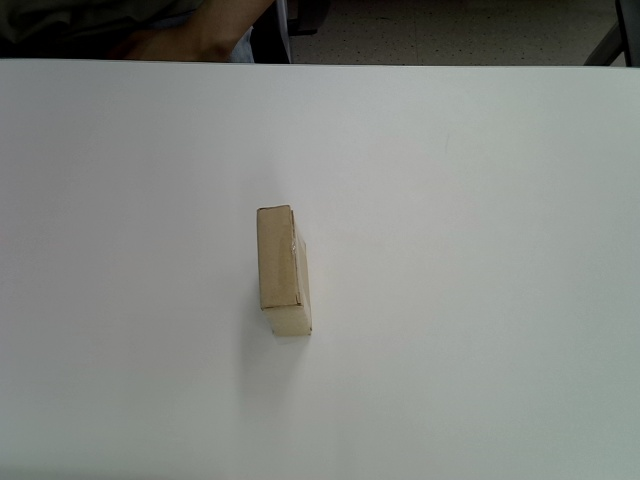normal: (256, 204, 313, 337)
